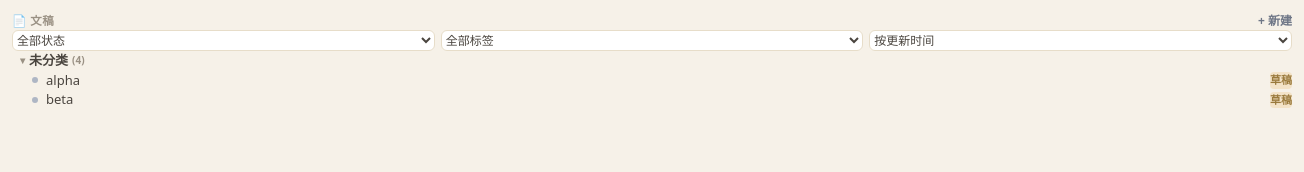
Test: PostTree › 标签过滤下拉（M5 §4.3 尾欠）：按标签筛可见文稿
Step 1. Select "深度工作" in the dropdown with test id "tag-filter" → (652, 40), box [441,30,863,51]
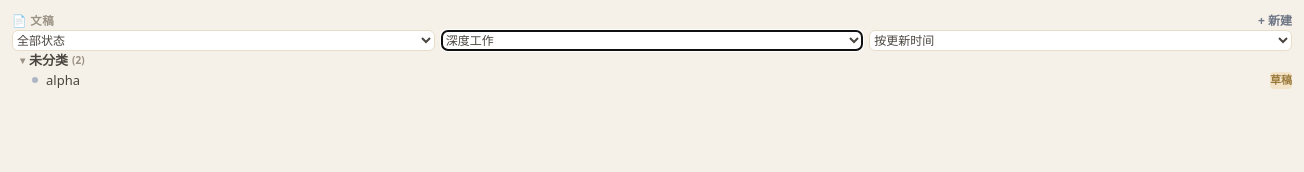
Expected: the text "alpha" is shown, [46,70,80,88]
Result: the text "beta" is gone
Step 2. Select "全部标签" in the dropdown with test id "tag-filter" → (652, 40), box [441,30,863,51]
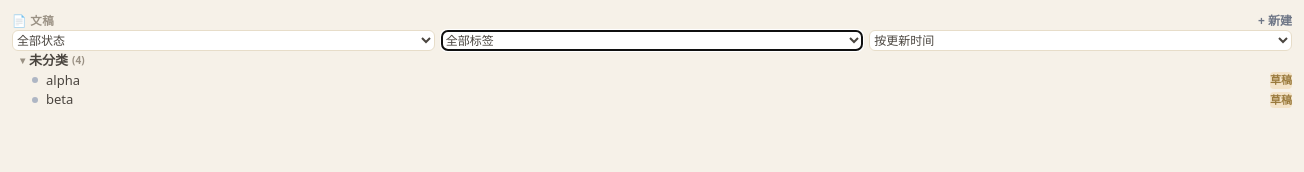
Result: the text "beta" is shown at [46,90,73,108]
